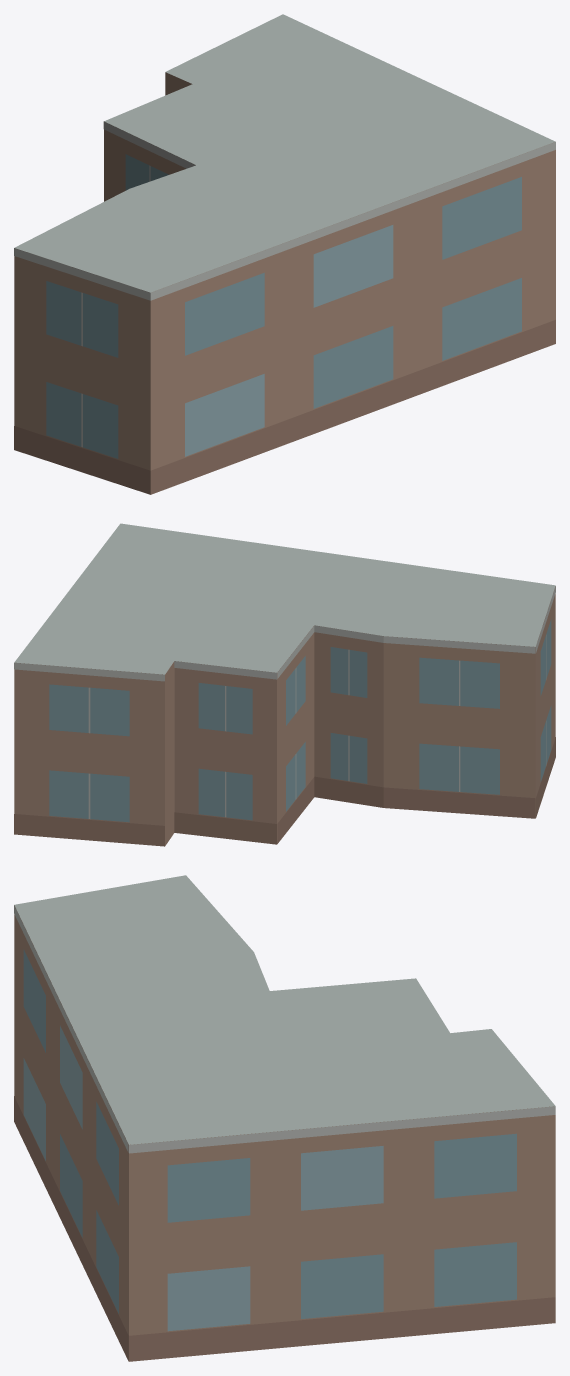
The model's file is survey-upis-32937303.glb.
The picture shows the model from 3 angles, top to bottom: view 1: azimuth 30°, elevation 25°; view 2: azimuth 150°, elevation 25°; view 3: azimuth 270°, elevation 25°; orthographic projection. The views are drawn at different scales.
Parts seen in each view (by area): view 1: survey-upis-32937303.tmp; view 2: survey-upis-32937303.tmp; view 3: survey-upis-32937303.tmp.
Boxes of the visible parts, x1,y1,x2,y2 form: survey-upis-32937303.tmp: [14, 14, 555, 494]; survey-upis-32937303.tmp: [14, 523, 555, 846]; survey-upis-32937303.tmp: [14, 875, 555, 1361].
Bounding box in the file's own units: 16.28 × 6.1 × 13.82.
